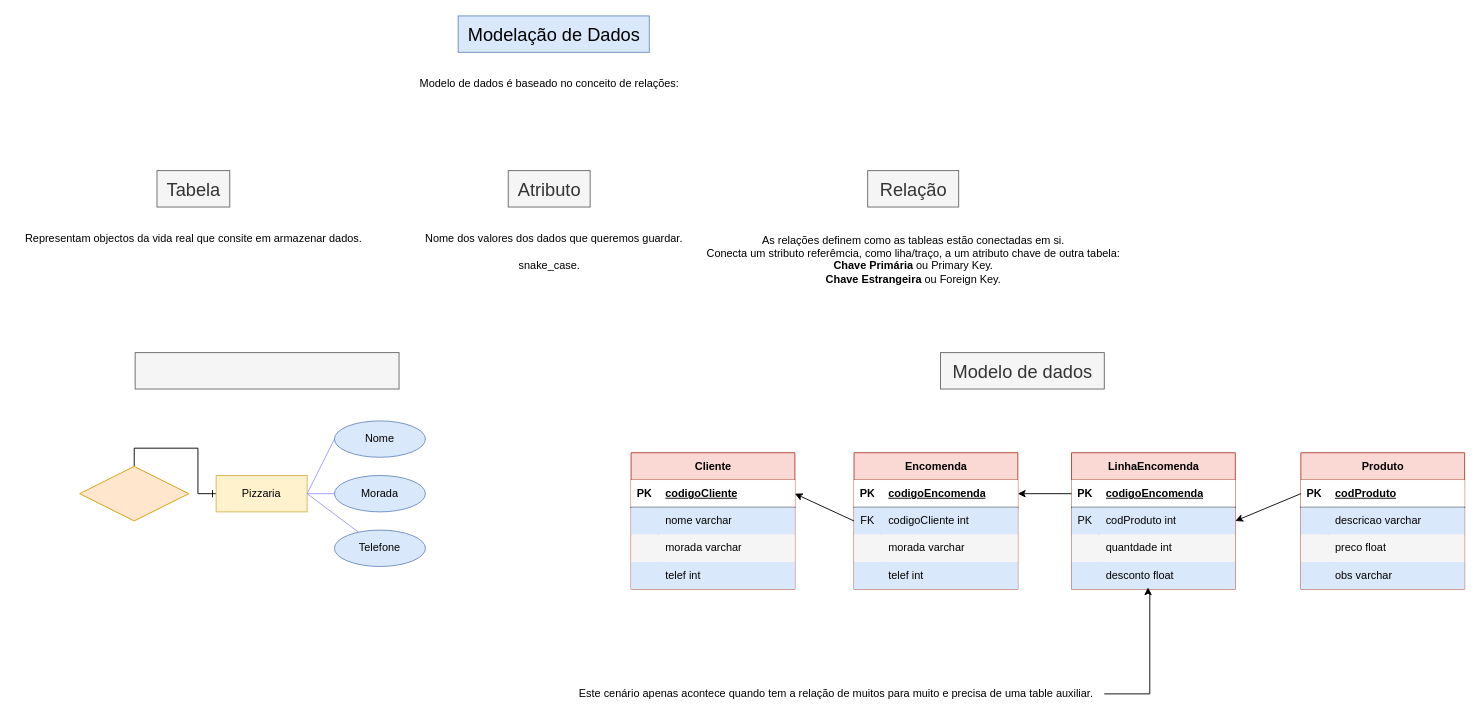
This 1481x723 diagram has some shape labels left out. The shapes that lost their labels are listed below. From the top down, each one's centre as x and y in pixels, then its label:
At [266,370]: "Diagrama Entidade - Relação".
At [134,493]: "Contém".
